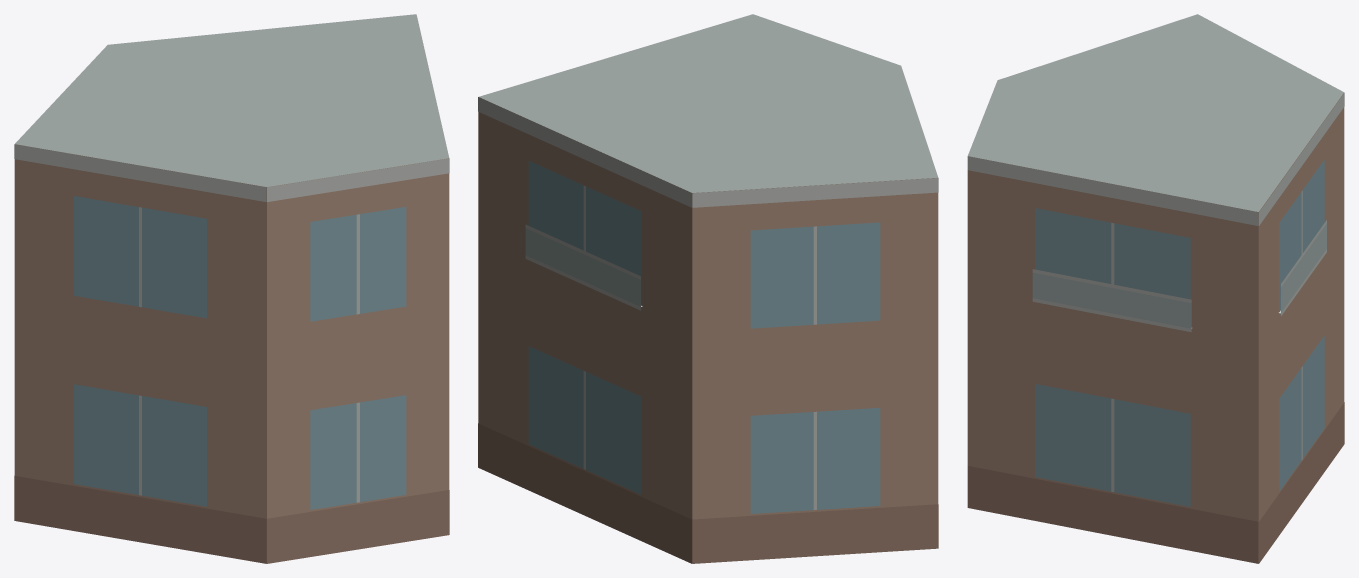
The model's file is survey-upis-32506837.glb.
3 views of the same model, side by side, from view 1: azimuth 30°, elevation 25°; view 2: azimuth 150°, elevation 25°; view 3: azimuth 270°, elevation 25° (orthographic). The views are drawn at different scales.
Visible parts, largest first — view 1: survey-upis-32506837.tmp; view 2: survey-upis-32506837.tmp; view 3: survey-upis-32506837.tmp.
Part boxes in pixels (x1,y1,x2,y2): survey-upis-32506837.tmp: (14, 14, 449, 563); survey-upis-32506837.tmp: (478, 14, 938, 563); survey-upis-32506837.tmp: (967, 14, 1344, 563).
Bounding box in the file's own units: 7.38 × 6.1 × 5.93.
